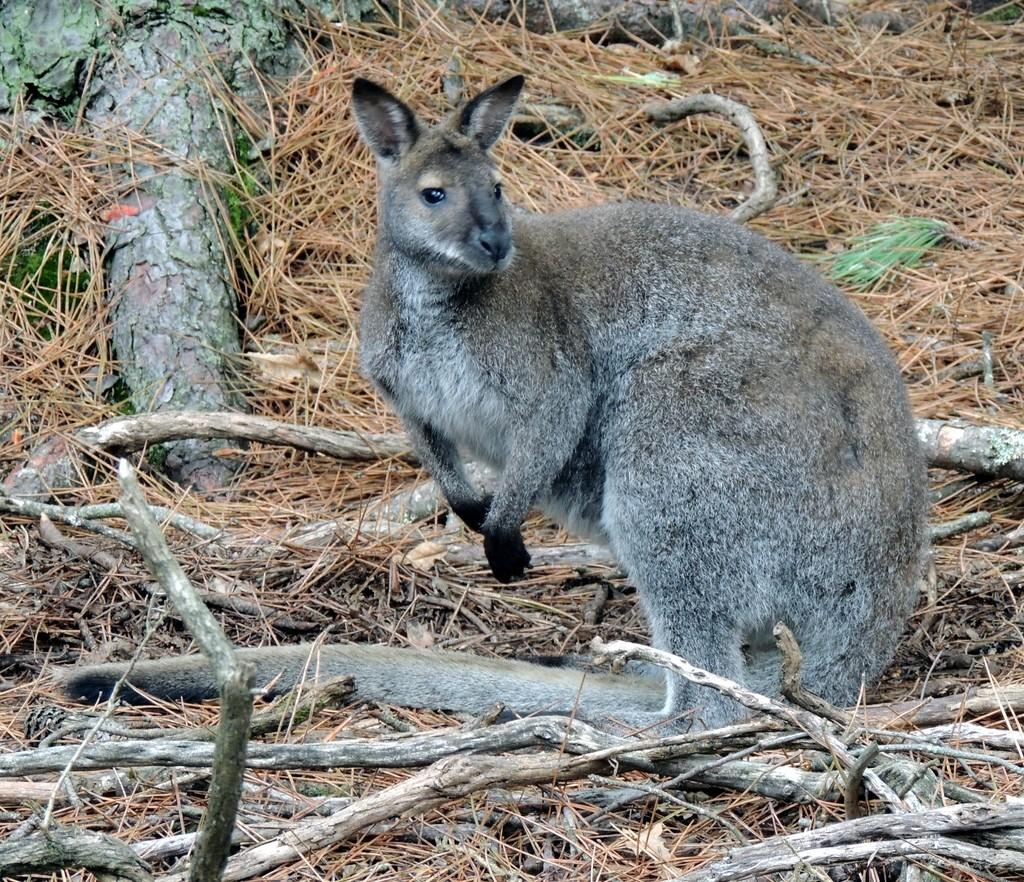kangaroo: (54, 72, 926, 734)
